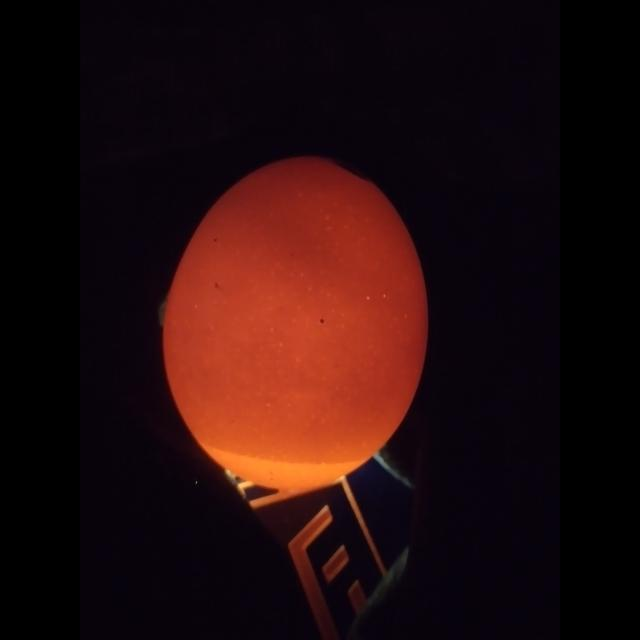Infertile: (164, 153, 428, 491)
